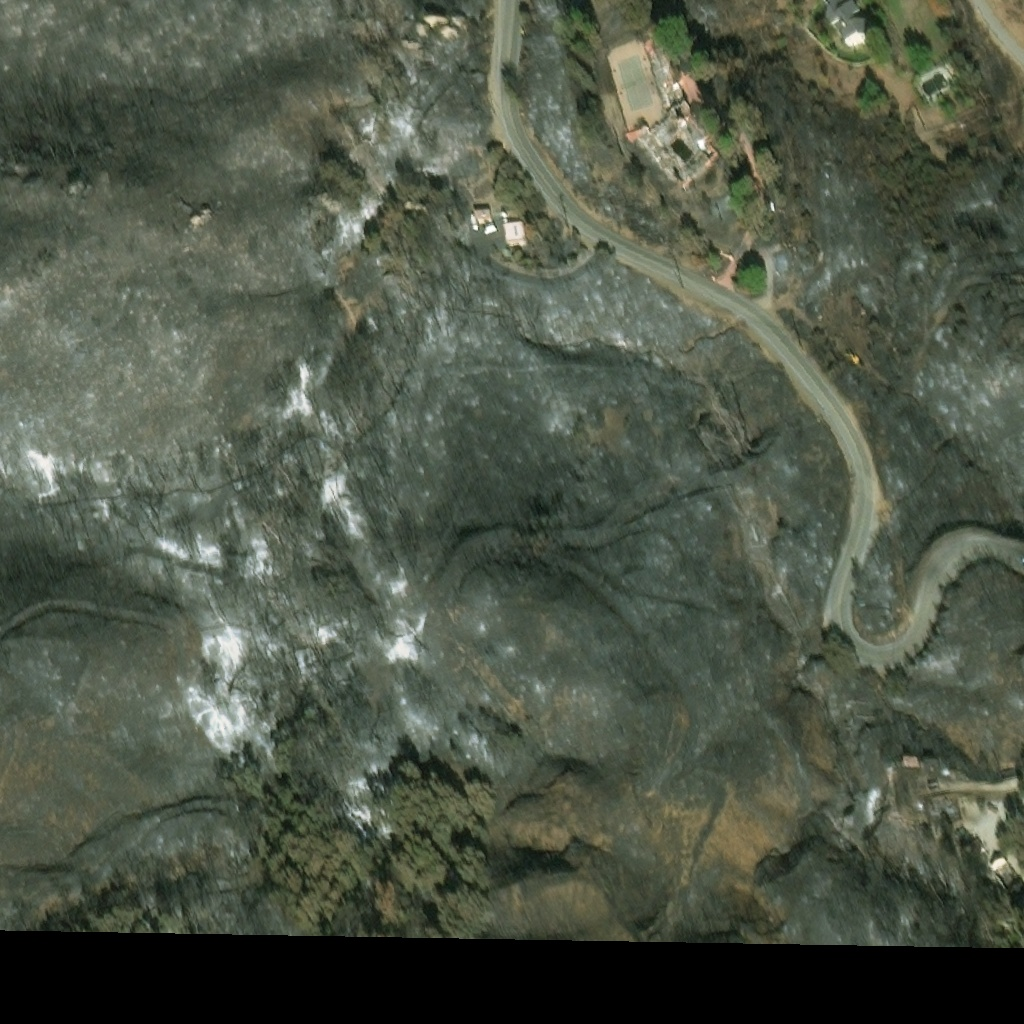0 no-damage: (822, 0, 873, 39), (501, 214, 524, 237), (899, 754, 920, 763), (473, 204, 490, 214), (923, 754, 937, 763)
3 destroyed: (630, 44, 717, 182), (986, 850, 1018, 882)
4 un-classified: (968, 829, 984, 847), (930, 798, 944, 807)
